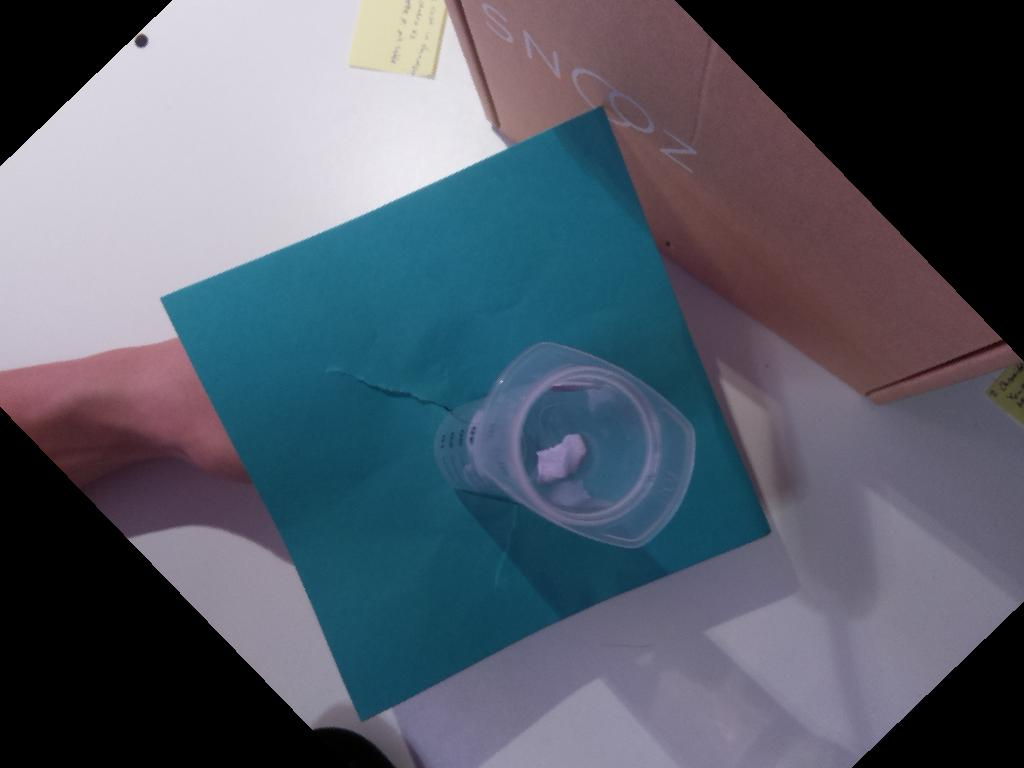dirty: (472, 340, 695, 549)
